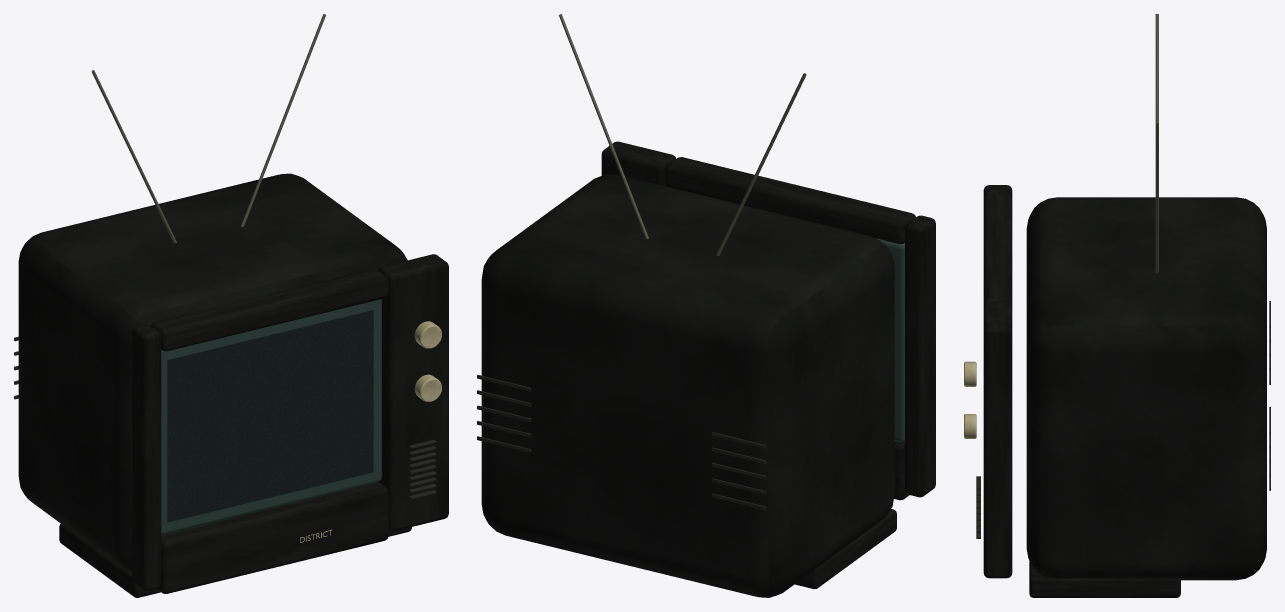
3 views of the same model, side by side, from view 1: azimuth 30°, elevation 25°; view 2: azimuth 150°, elevation 25°; view 3: azimuth 270°, elevation 25° (orthographic). The views are drawn at different scales.
Parts seen in each view (by area): view 1: CRT rear chassis, Subtle phosphor image, CRT recessed bezel controls, CRT recessed bezel bottom, CRT recessed bezel left, CRT recessed bezel top, Recessed glass face, TV foot, Telescoping aerial.001, Telescoping aerial, Tuning knob.001, Tuning knob; view 2: CRT rear chassis, CRT recessed bezel left, CRT recessed bezel top, Recessed glass face, CRT recessed bezel controls, TV foot, Telescoping aerial.001, Telescoping aerial, CRT recessed bezel bottom; view 3: CRT rear chassis, CRT recessed bezel controls, CRT recessed bezel top, TV foot.001, Telescoping aerial.001, Telescoping aerial.
Part boxes in pixels (x1,y1,x2,y2): CRT rear chassis: (18,173,407,571); Subtle phosphor image: (167,310,373,522); CRT recessed bezel controls: (378,254,448,531); CRT recessed bezel bottom: (157,482,388,593); CRT recessed bezel left: (132,324,161,591); CRT recessed bezel top: (151,269,388,351); Recessed glass face: (161,299,381,535); TV foot: (59,523,160,597); Telescoping aerial.001: (240,14,325,226); Telescoping aerial: (91,70,176,243); Tuning knob.001: (414,321,441,348); Tuning knob: (414,374,441,401); CRT rear chassis: (481,174,894,597); CRT recessed bezel left: (905,215,935,497); CRT recessed bezel top: (665,157,915,243); Recessed glass face: (875,238,904,442); CRT recessed bezel controls: (601,141,676,186); TV foot: (795,509,896,588); Telescoping aerial.001: (559,14,648,238); Telescoping aerial: (716,73,806,255); CRT recessed bezel bottom: (894,441,909,500); CRT rear chassis: (1026,197,1266,580); CRT recessed bezel controls: (983,302,1012,578); CRT recessed bezel top: (983,194,1012,306); TV foot.001: (1029,562,1180,597); Telescoping aerial.001: (1155,123,1158,272); Telescoping aerial: (1155,14,1158,123).
Bounding box in the file's own units: 0.66 × 0.9812 × 0.5875.
Materials: 6 (4 with a texture image).
